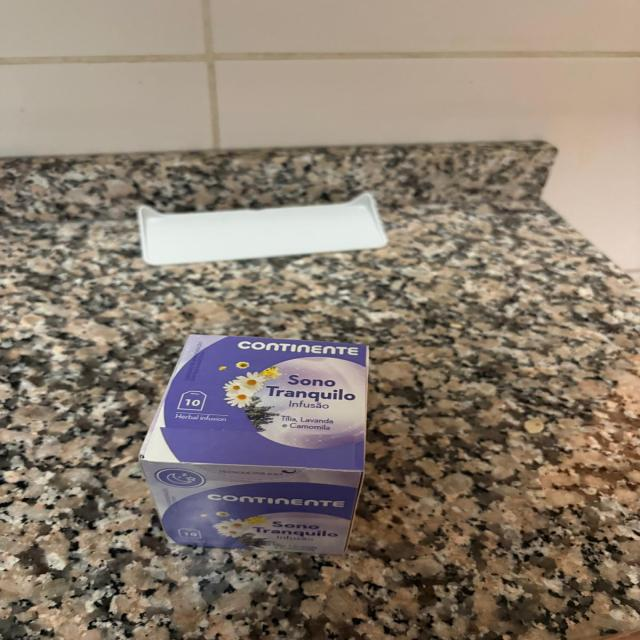good_package: (139, 334, 372, 555)
